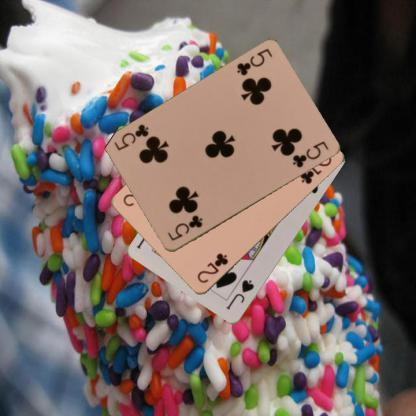2c: (194, 251, 230, 285)
5c: (233, 46, 274, 78), (165, 212, 204, 242)
Js: (224, 278, 256, 312)
